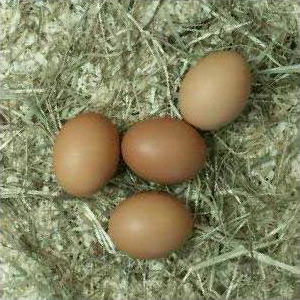egg: (109, 191, 196, 260), (179, 50, 252, 132), (53, 113, 121, 198), (122, 118, 207, 185)
